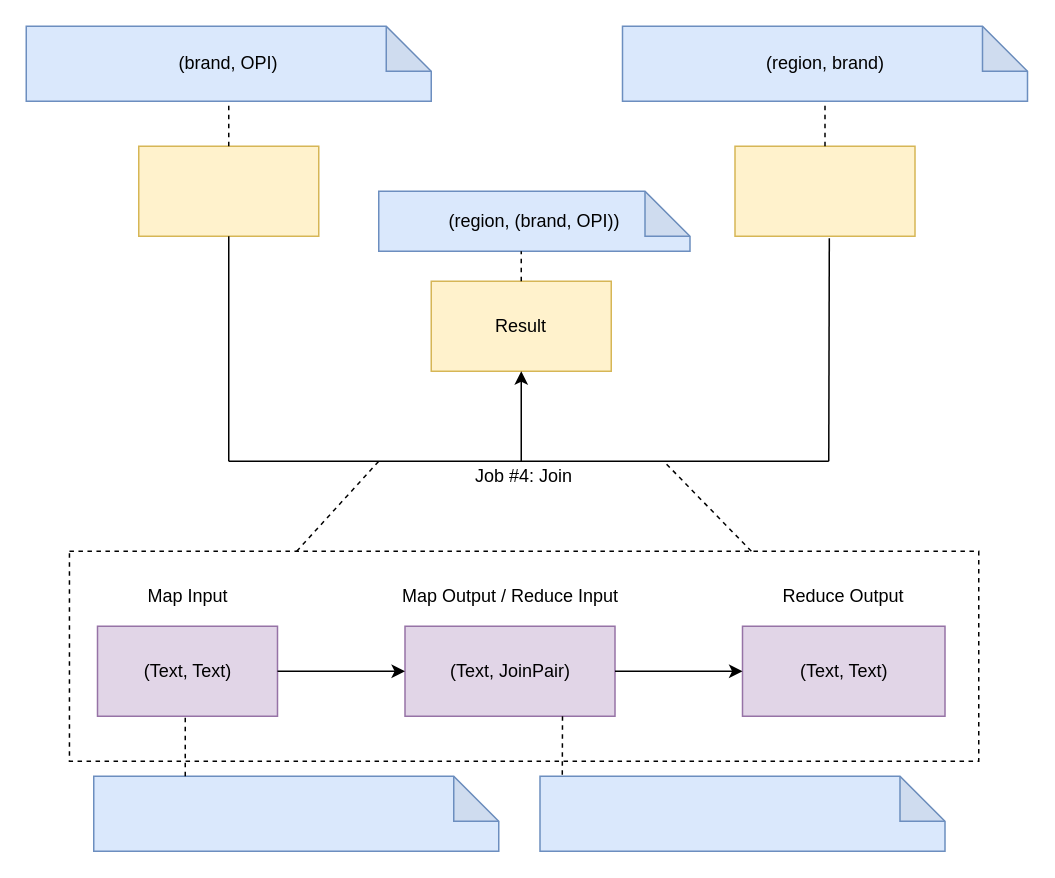
This 1055x878 diagram has some shape labels left out. The shapes that lost their labels are listed below. From the top down, each one's centre as x and y in pixels, then its label:
pixel 228 190: OPI for each brand
pixel 824 190: Top brand for each region
pixel 295 813: (brand, OPI) OR (region, brand)
pixel 741 813: (brand, (1, OPI)) OR (brand, (2, region))
